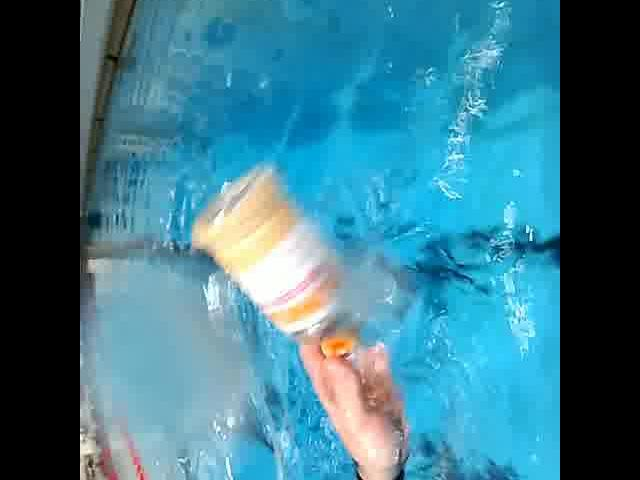Bottle: (180, 162, 373, 368)
